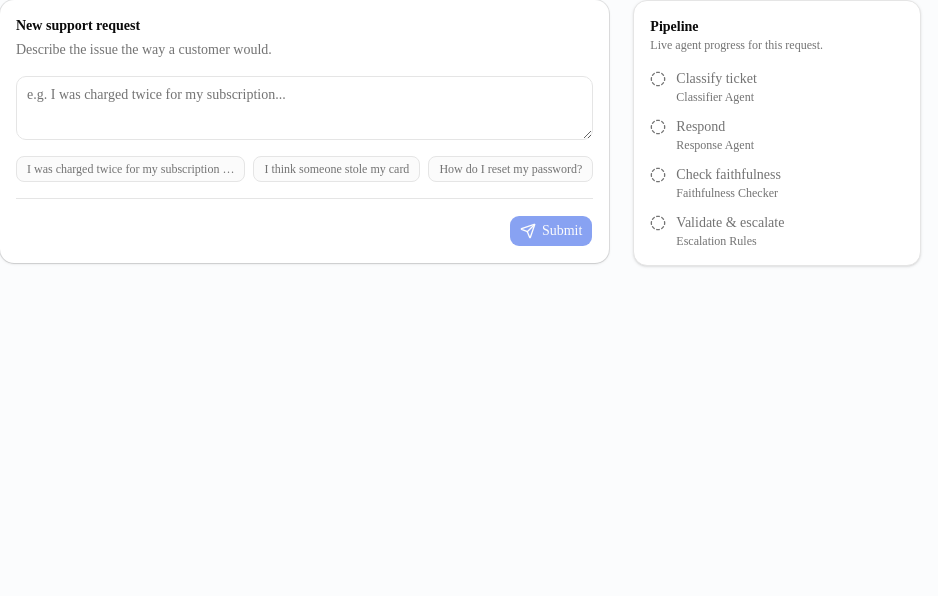
Test case: TicketForm › skips the faithfulness step when the workflow takes the clarify branch
Type "can I get a discount for referring a friend?" into the text box named "Describe your issue". click: (305, 108)
box: [16,76,593,140]
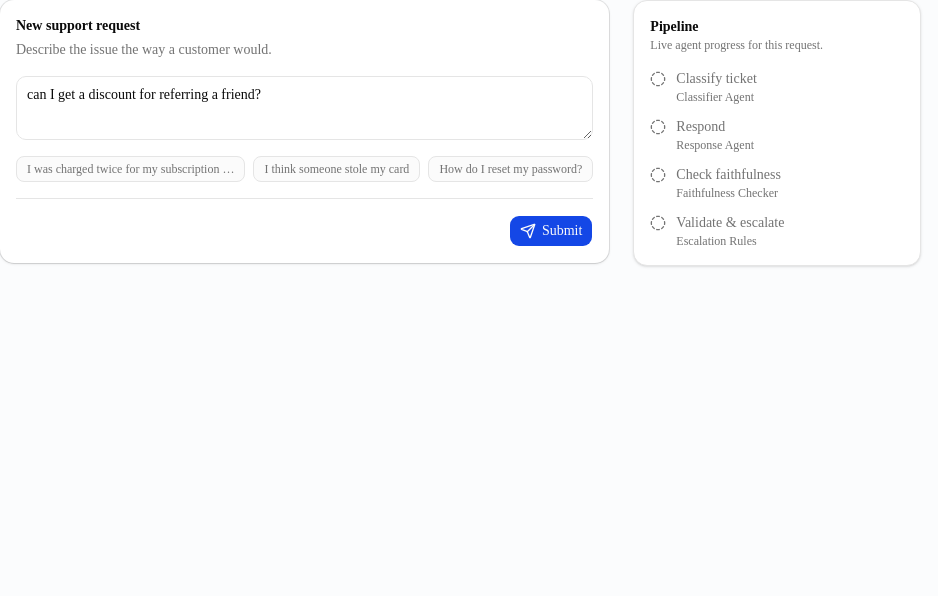
Click the button "Submit". click: click(551, 231)
box: [509,215,593,247]
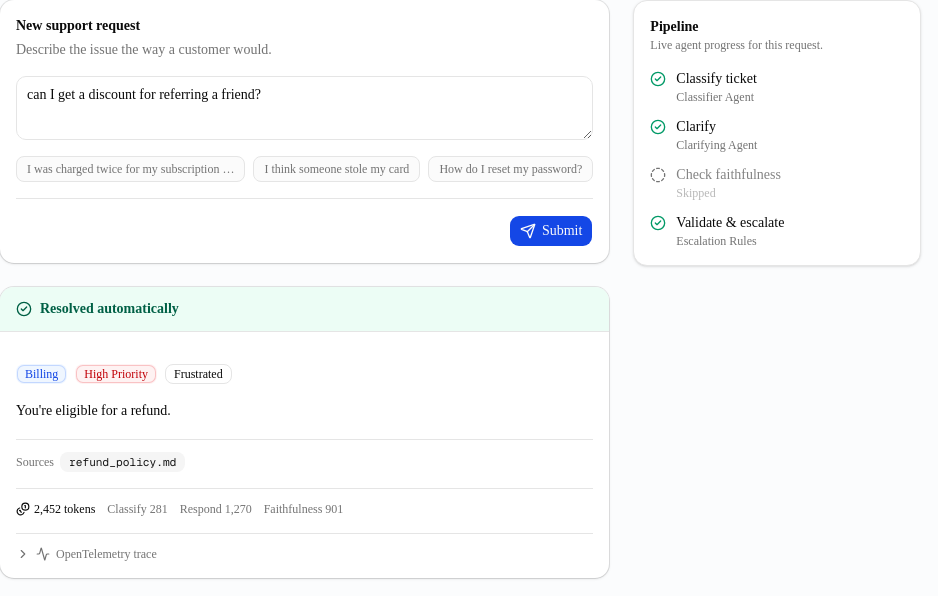
Expected: the text "You're eligible for a refund." is shown, [16,403,171,418]
